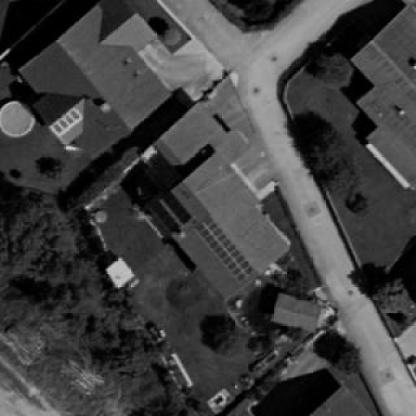solar-pv-panel: (194, 214, 257, 283), (50, 107, 83, 137)
